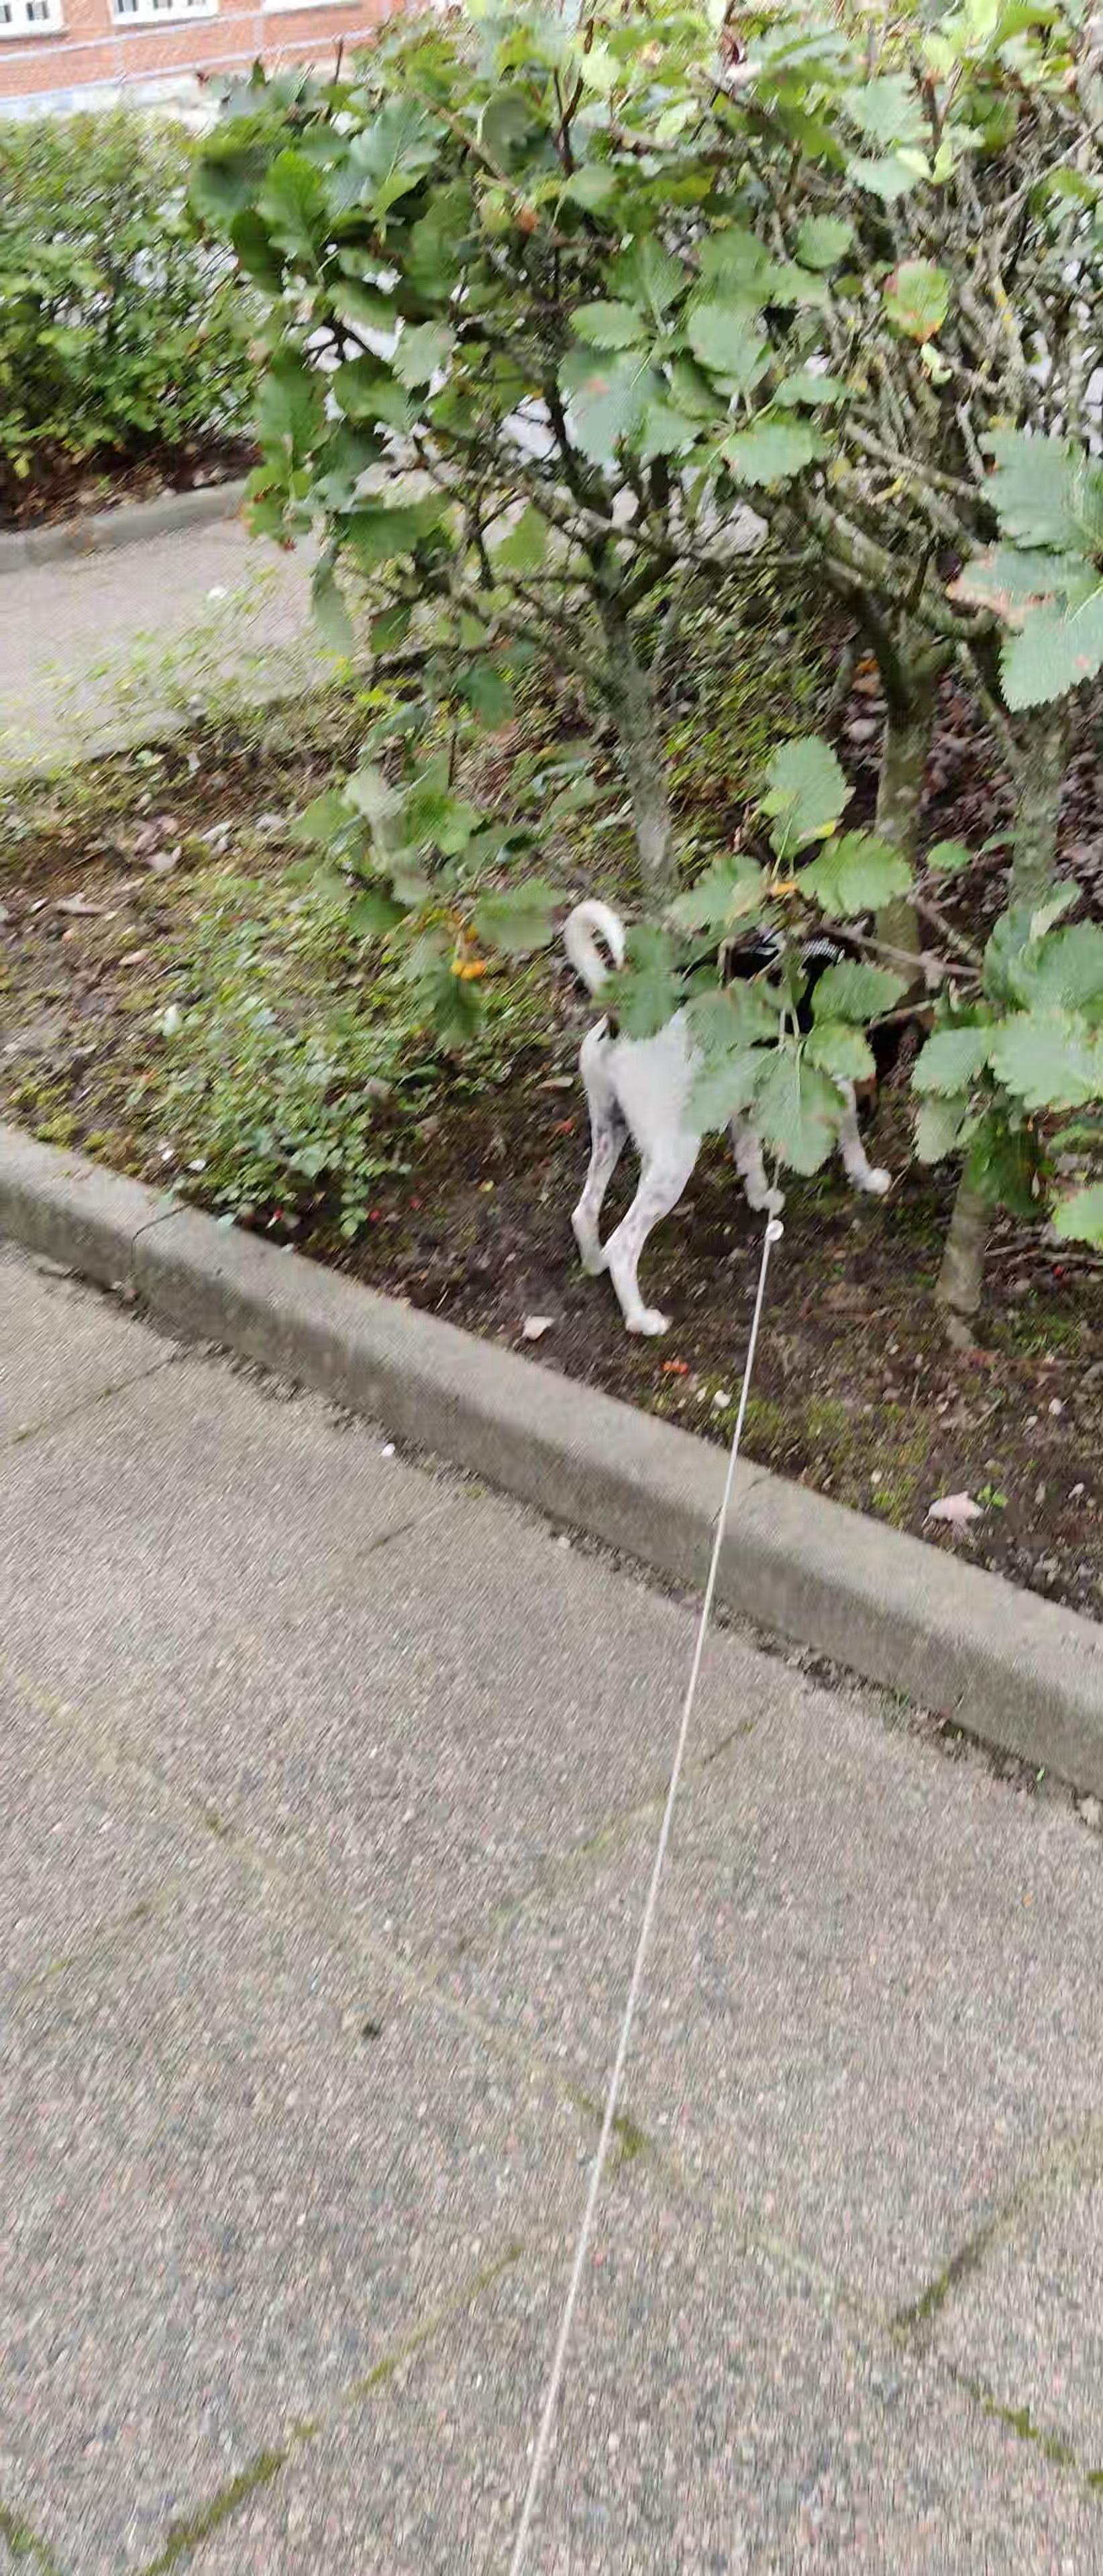Dog: (547, 890, 914, 1334)
